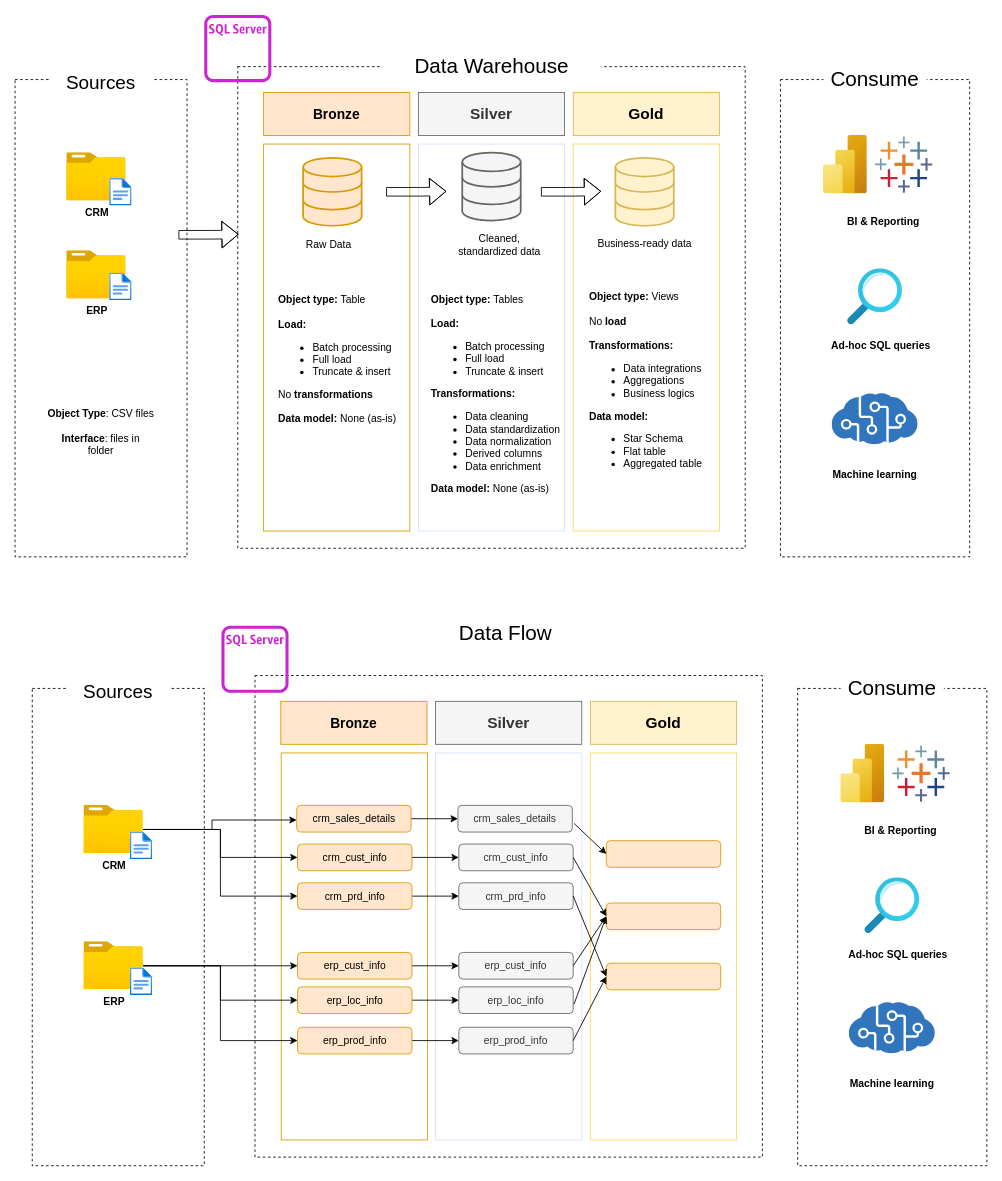
Some shapes in this 1002 by 1181 pixel diagram are drawn without their labels. Each missing label, with the centre of its shape:
"dim_customers" goes at [663,916].
"dim_proucts" goes at [663,976].
"fact_sales" goes at [663,853].
